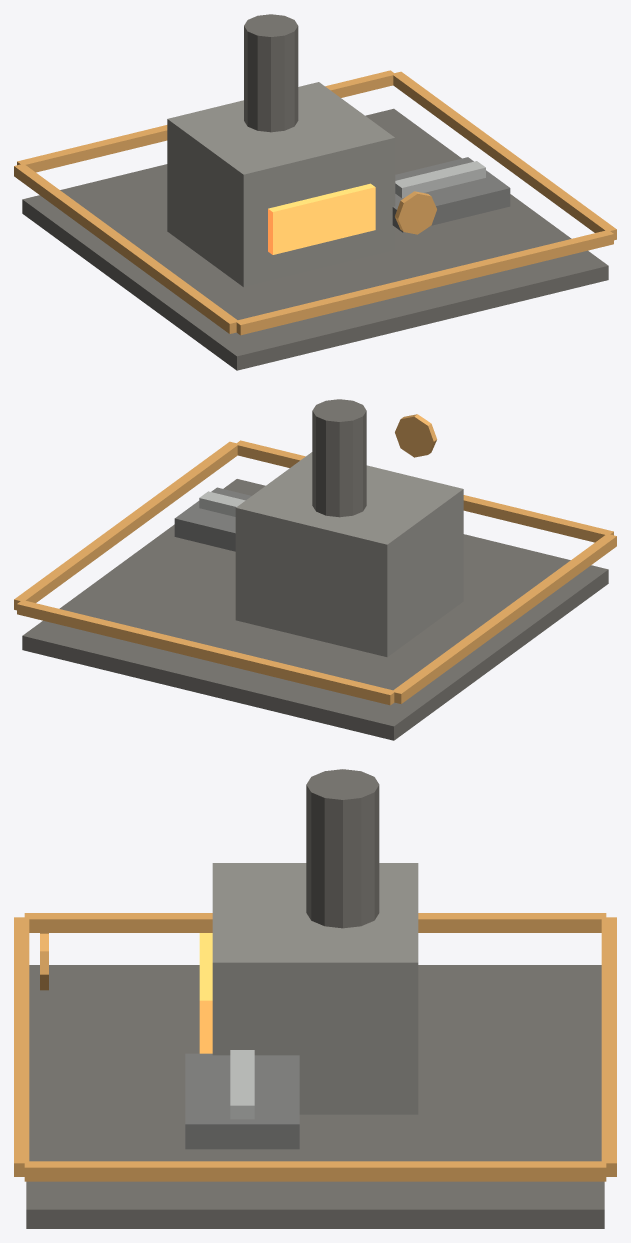
Rendered from t6_smelter.glb.
3 renders of one model, top to bottom at view 1: azimuth 30°, elevation 25°; view 2: azimuth 150°, elevation 25°; view 3: azimuth 270°, elevation 25°, orthographic. The views are drawn at different scales.
Parts seen in each view (by area): view 1: FootprintBase, FurnaceBody, Chimney, TierFrontTrim, HearthGlow, TierLeftTrim, TierRightTrim, IngotTray, TierBackTrim, TierEmblem, Ingot, Ingot.002; view 2: FootprintBase, FurnaceBody, Chimney, TierBackTrim, TierLeftTrim, TierRightTrim, TierFrontTrim, IngotTray, TierEmblem, Ingot.003; view 3: FootprintBase, FurnaceBody, TierRightTrim, Chimney, IngotTray, TierLeftTrim, TierFrontTrim, TierBackTrim, HearthGlow, Ingot.003.
Part boxes in pixels (x1,y1,x2,y2): FootprintBase: (22, 108, 608, 370); FurnaceBody: (167, 82, 395, 287); Chimney: (244, 14, 298, 132); TierFrontTrim: (236, 230, 613, 335); HearthGlow: (268, 183, 375, 254); TierLeftTrim: (14, 164, 238, 333); TierRightTrim: (393, 71, 616, 240); IngotTray: (392, 157, 510, 232); TierBackTrim: (17, 70, 395, 172); TierEmblem: (395, 191, 436, 234); Ingot: (395, 174, 433, 198); Ingot.002: (437, 165, 468, 189); FootprintBase: (22, 479, 608, 740); FurnaceBody: (235, 452, 463, 657); Chimney: (312, 399, 366, 517); TierBackTrim: (17, 600, 395, 705); TierLeftTrim: (392, 534, 616, 703); TierRightTrim: (14, 441, 237, 610); TierFrontTrim: (235, 440, 613, 542); IngotTray: (174, 487, 251, 551); TierEmblem: (395, 414, 437, 457); Ingot.003: (199, 491, 238, 515); FootprintBase: (26, 965, 604, 1228); FurnaceBody: (212, 863, 418, 1114); TierRightTrim: (24, 1161, 606, 1181); Chimney: (306, 769, 379, 928); IngotTray: (185, 1053, 299, 1149); TierLeftTrim: (24, 913, 606, 932); TierFrontTrim: (14, 917, 29, 1176); TierBackTrim: (601, 917, 616, 1176); HearthGlow: (199, 933, 212, 1053); Ingot.003: (230, 1085, 254, 1119).
Size of the model in its own units: 3.96 by 2.17 by 3.96.
